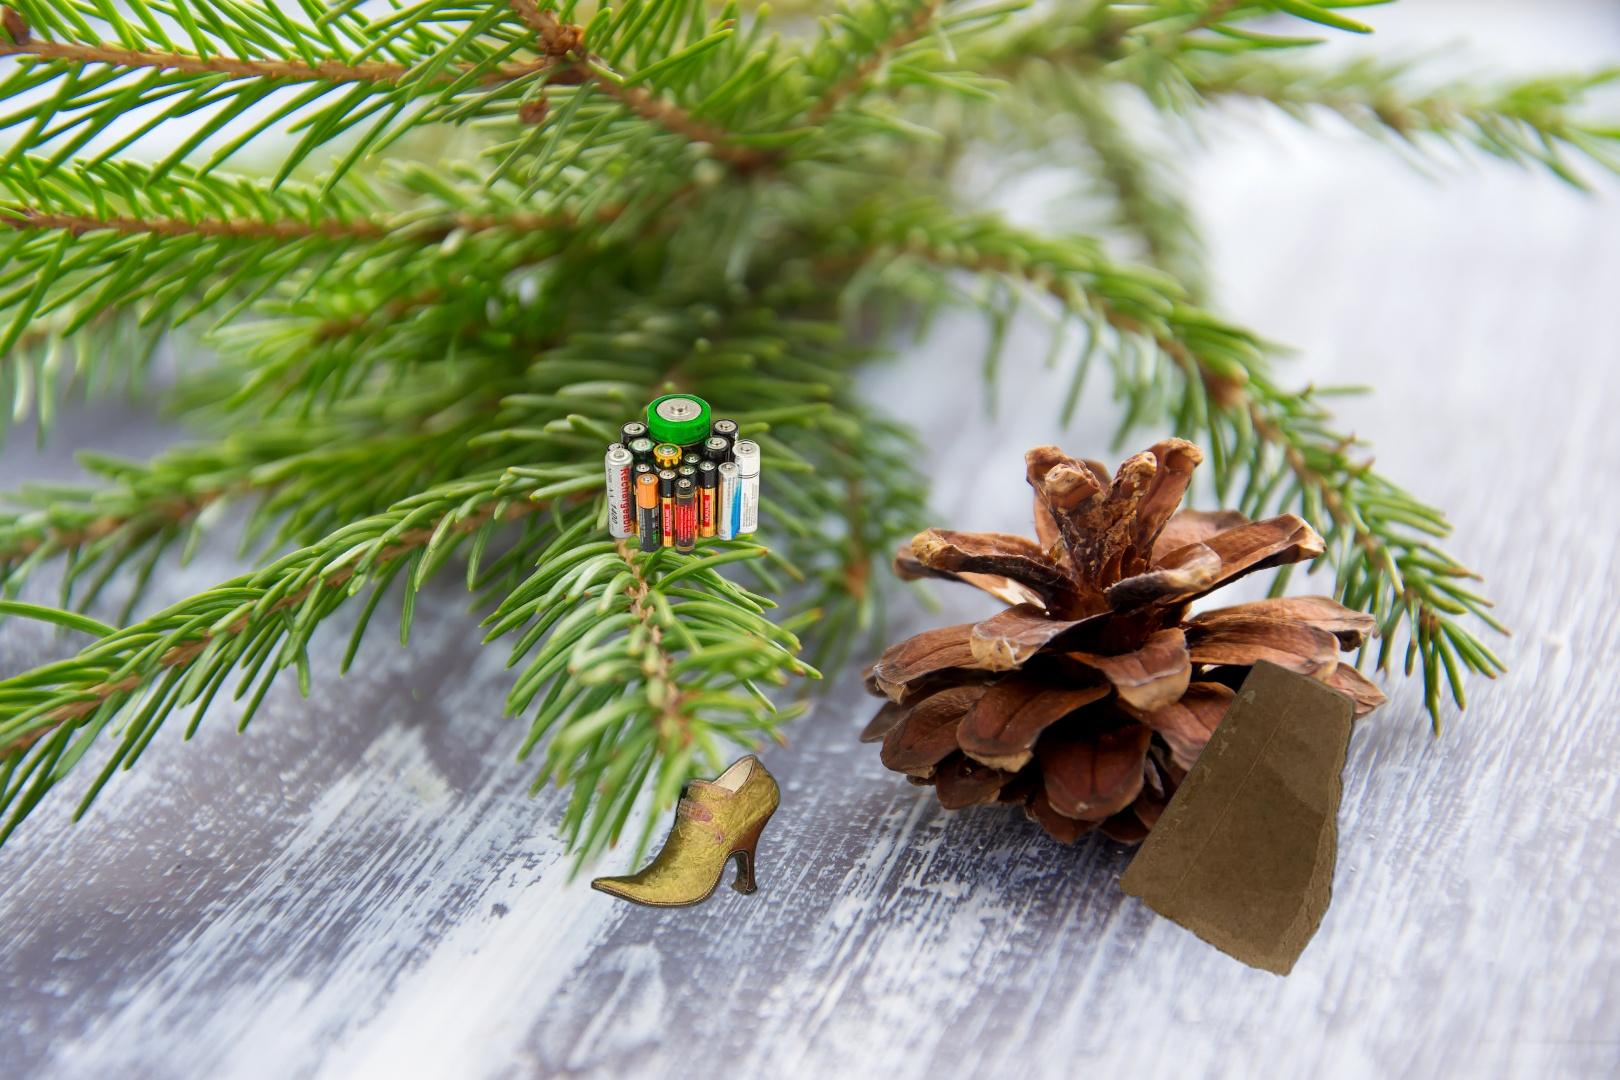battery: (601, 391, 763, 558)
metal-cans: (1478, 1012, 1620, 1080)
paper: (1113, 655, 1360, 980)
shoes: (589, 752, 783, 912)
